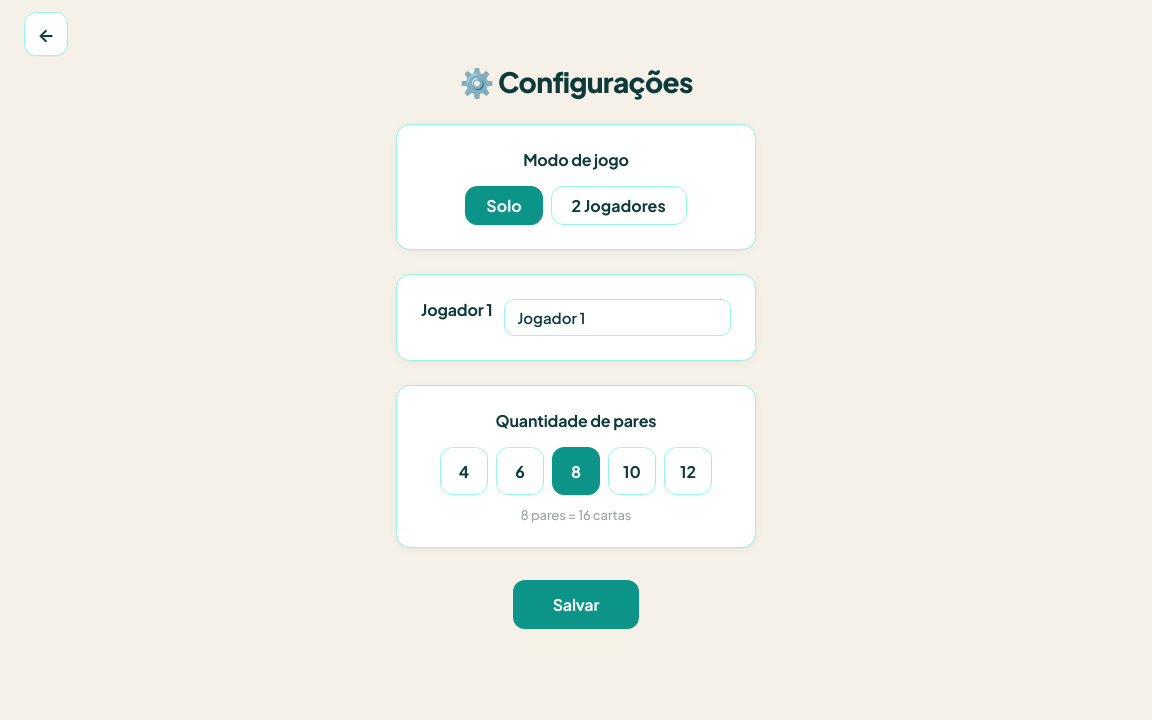
it: Settings — modo de jogo › mudança de modo ativa guard de alterações não salvas
Click the button "2 Jogadores" at (619, 206), box top-left (551, 186), bottom-right (687, 225)
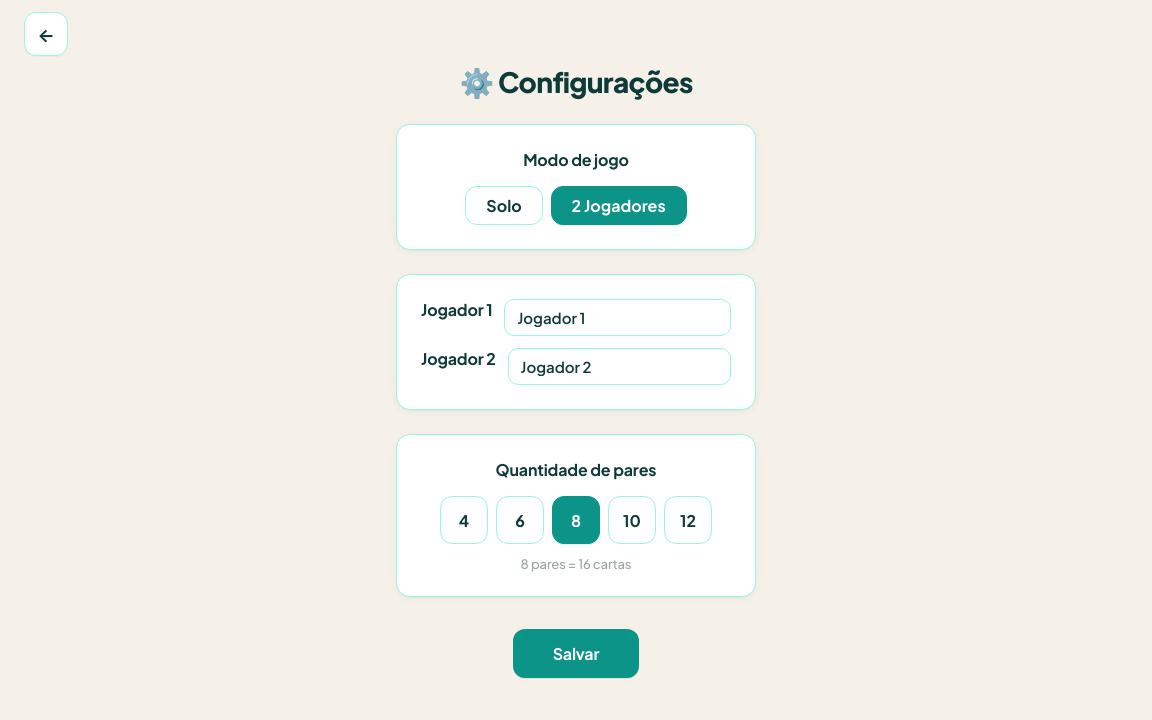
Click the button "←" at (46, 34), box top-left (24, 12), bottom-right (68, 56)
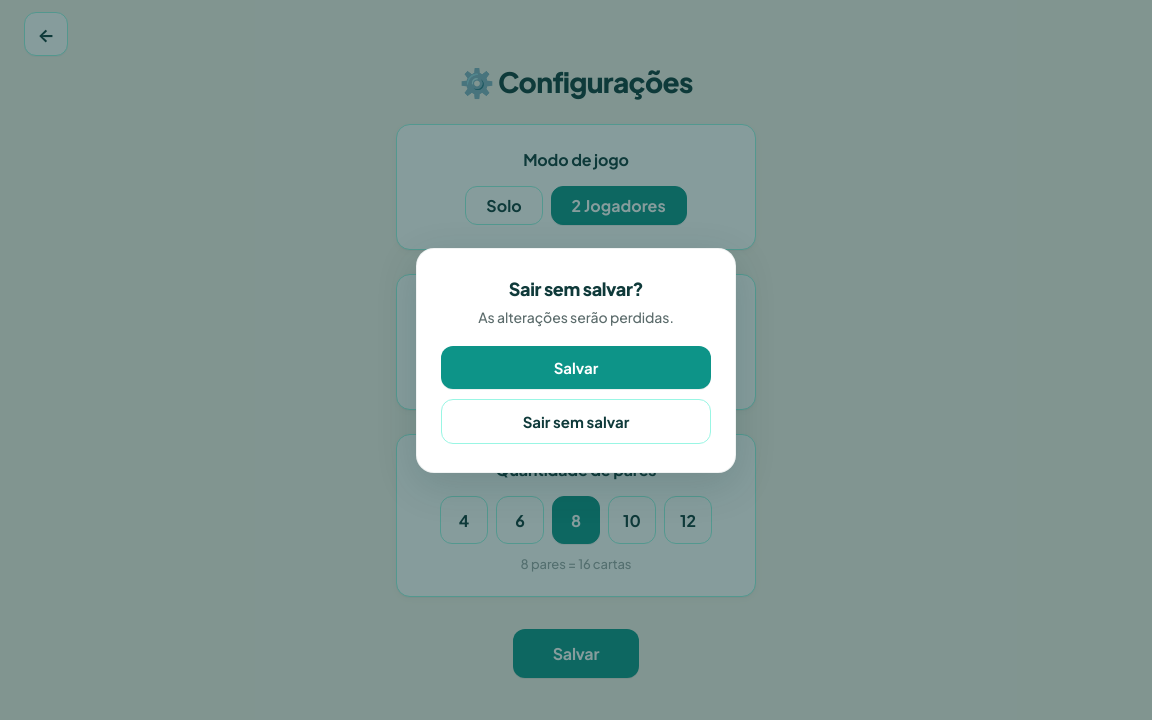
Check: the text "Sair sem salvar?" is shown, box top-left (509, 276), bottom-right (643, 300)
